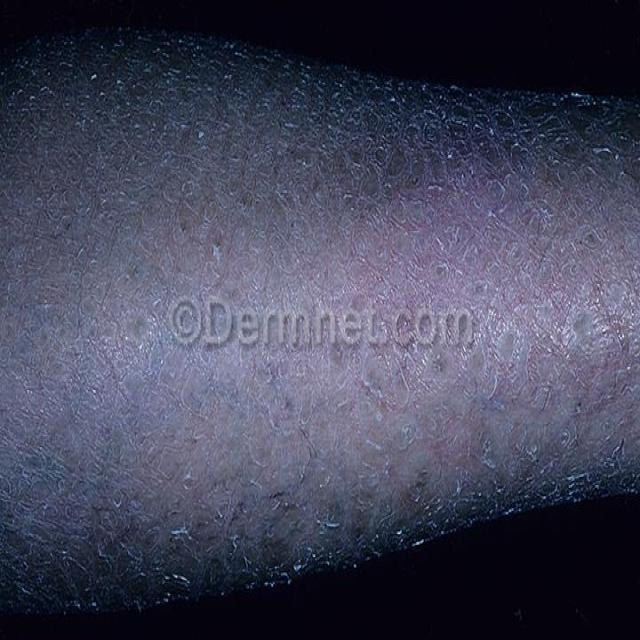Eczema: (0, 40, 640, 568)
